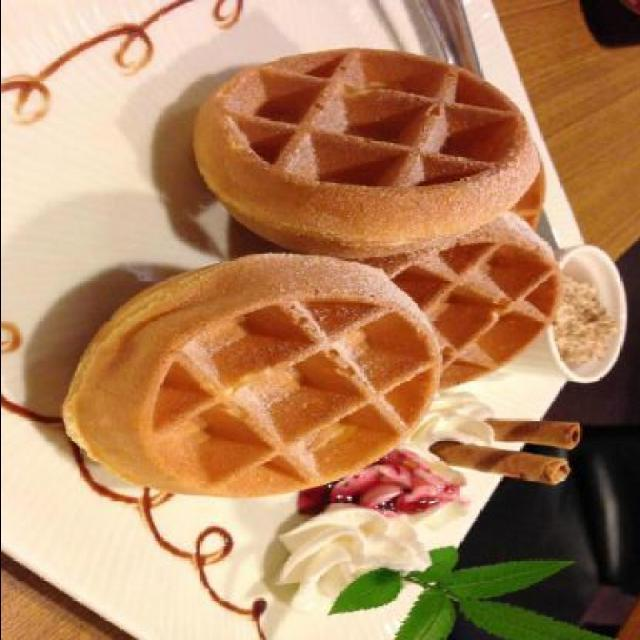Waffle: (57, 252, 445, 500), (192, 47, 543, 259), (354, 212, 564, 392), (513, 149, 547, 231)
